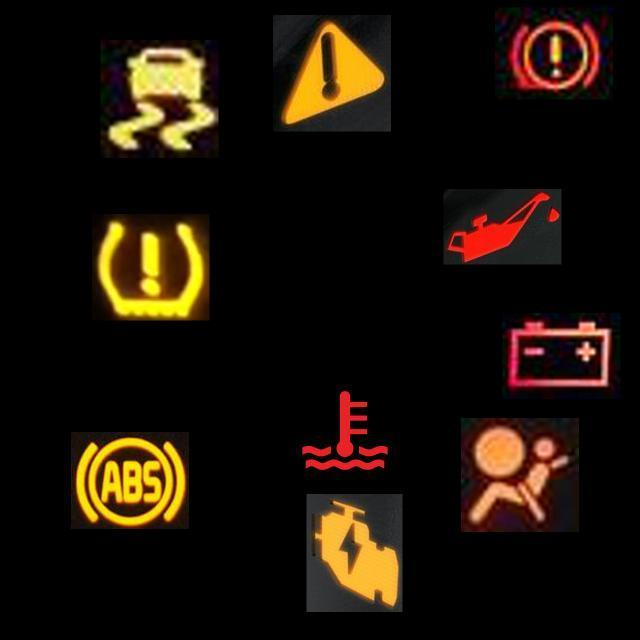Central Warning lamp: (273, 15, 391, 132)
Engine cooling system: (286, 372, 404, 489)
